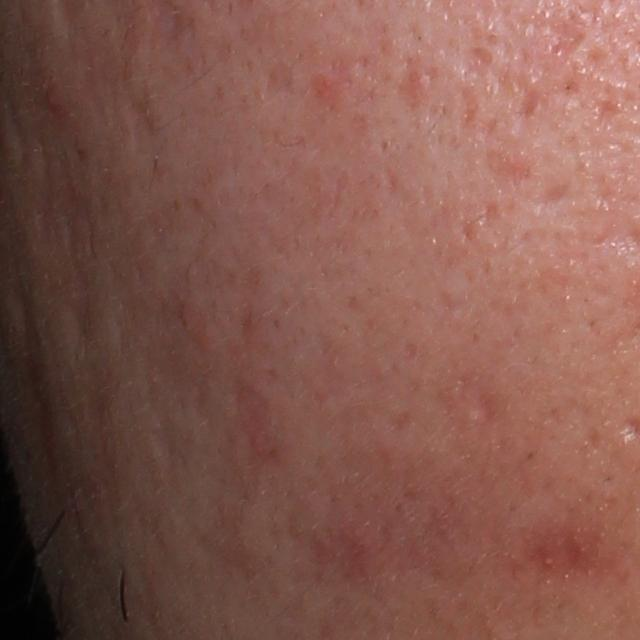atrophic_scar: (257, 55, 300, 112), (541, 15, 589, 63), (524, 176, 572, 210), (461, 45, 496, 81), (454, 84, 478, 135), (521, 83, 543, 122), (472, 392, 499, 423), (480, 196, 503, 228)
papule: (332, 514, 382, 571), (42, 80, 68, 123)
